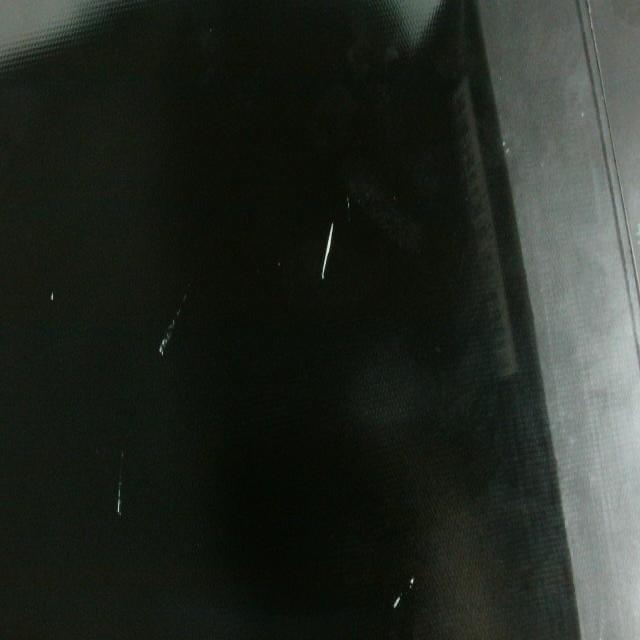scratch: (155, 278, 193, 365), (313, 212, 342, 285), (112, 434, 132, 518), (389, 566, 419, 612)
very small scratch: (46, 284, 60, 308)
